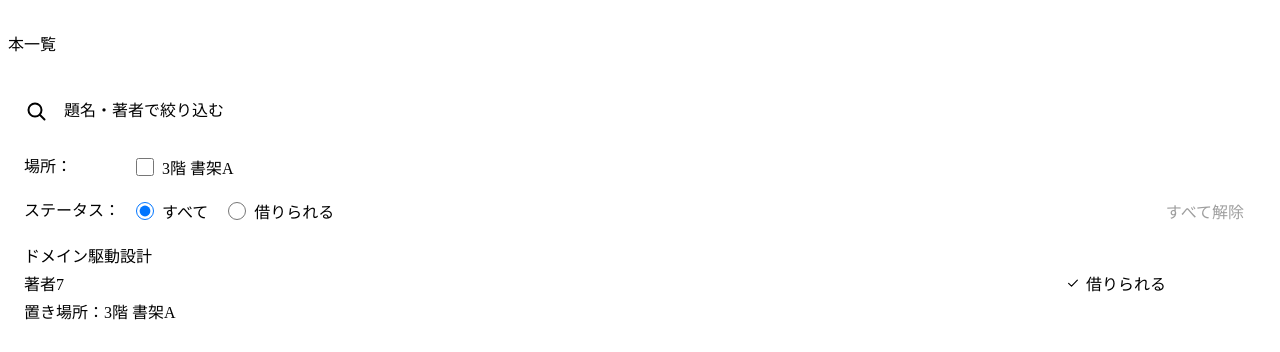
BookListPage › BL-05: 本の行を押すと、本詳細画面へ移動する
Click the link "ドメイン駆動設計 著者7 置き場所：3階 書架A 借りられる": (88, 256) [8,231,1272,335]
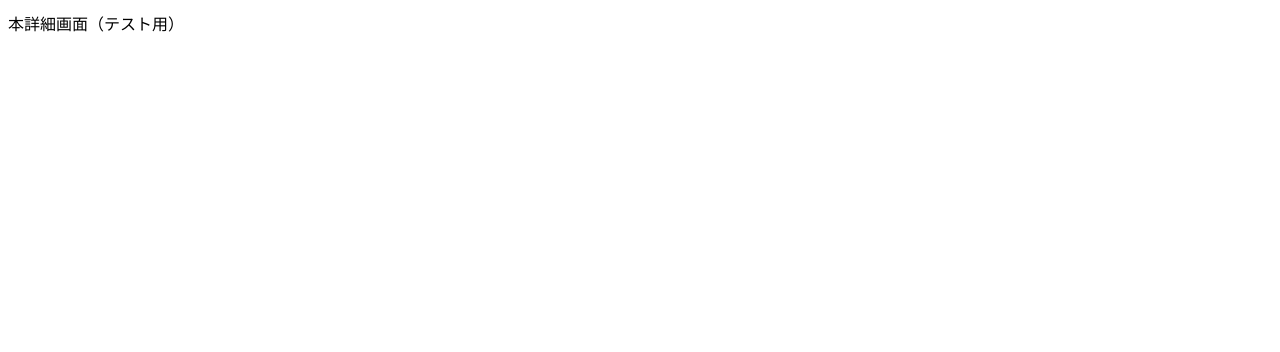
expect the text "本詳細画面（テスト用）" is shown: met, box [8,16,184,33]
